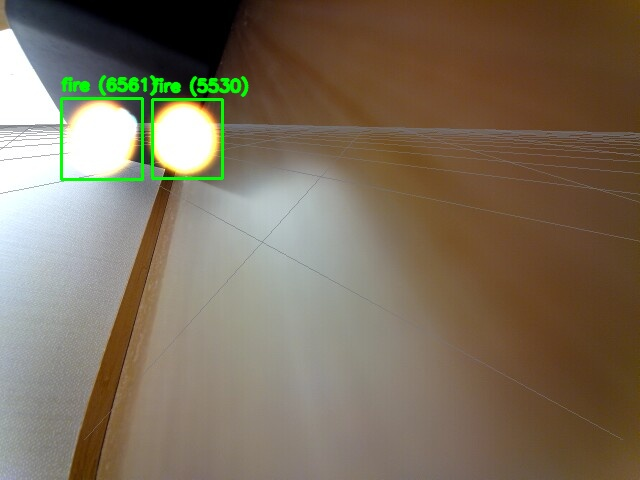fire: (61, 98, 142, 179), (152, 99, 222, 178)
